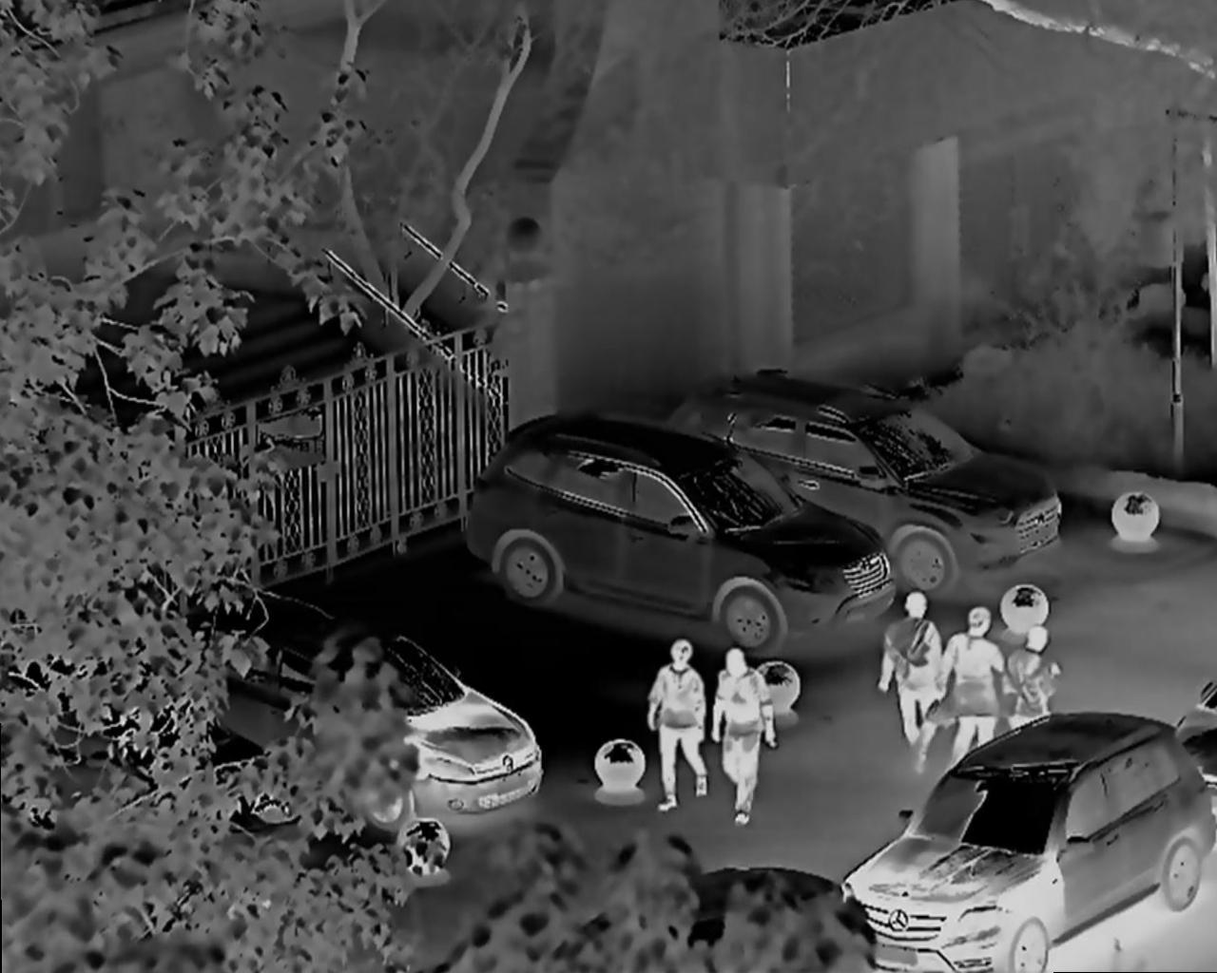person: (707, 639, 782, 823), (877, 582, 941, 777), (944, 588, 1004, 782), (642, 641, 710, 806), (1004, 621, 1073, 766)
